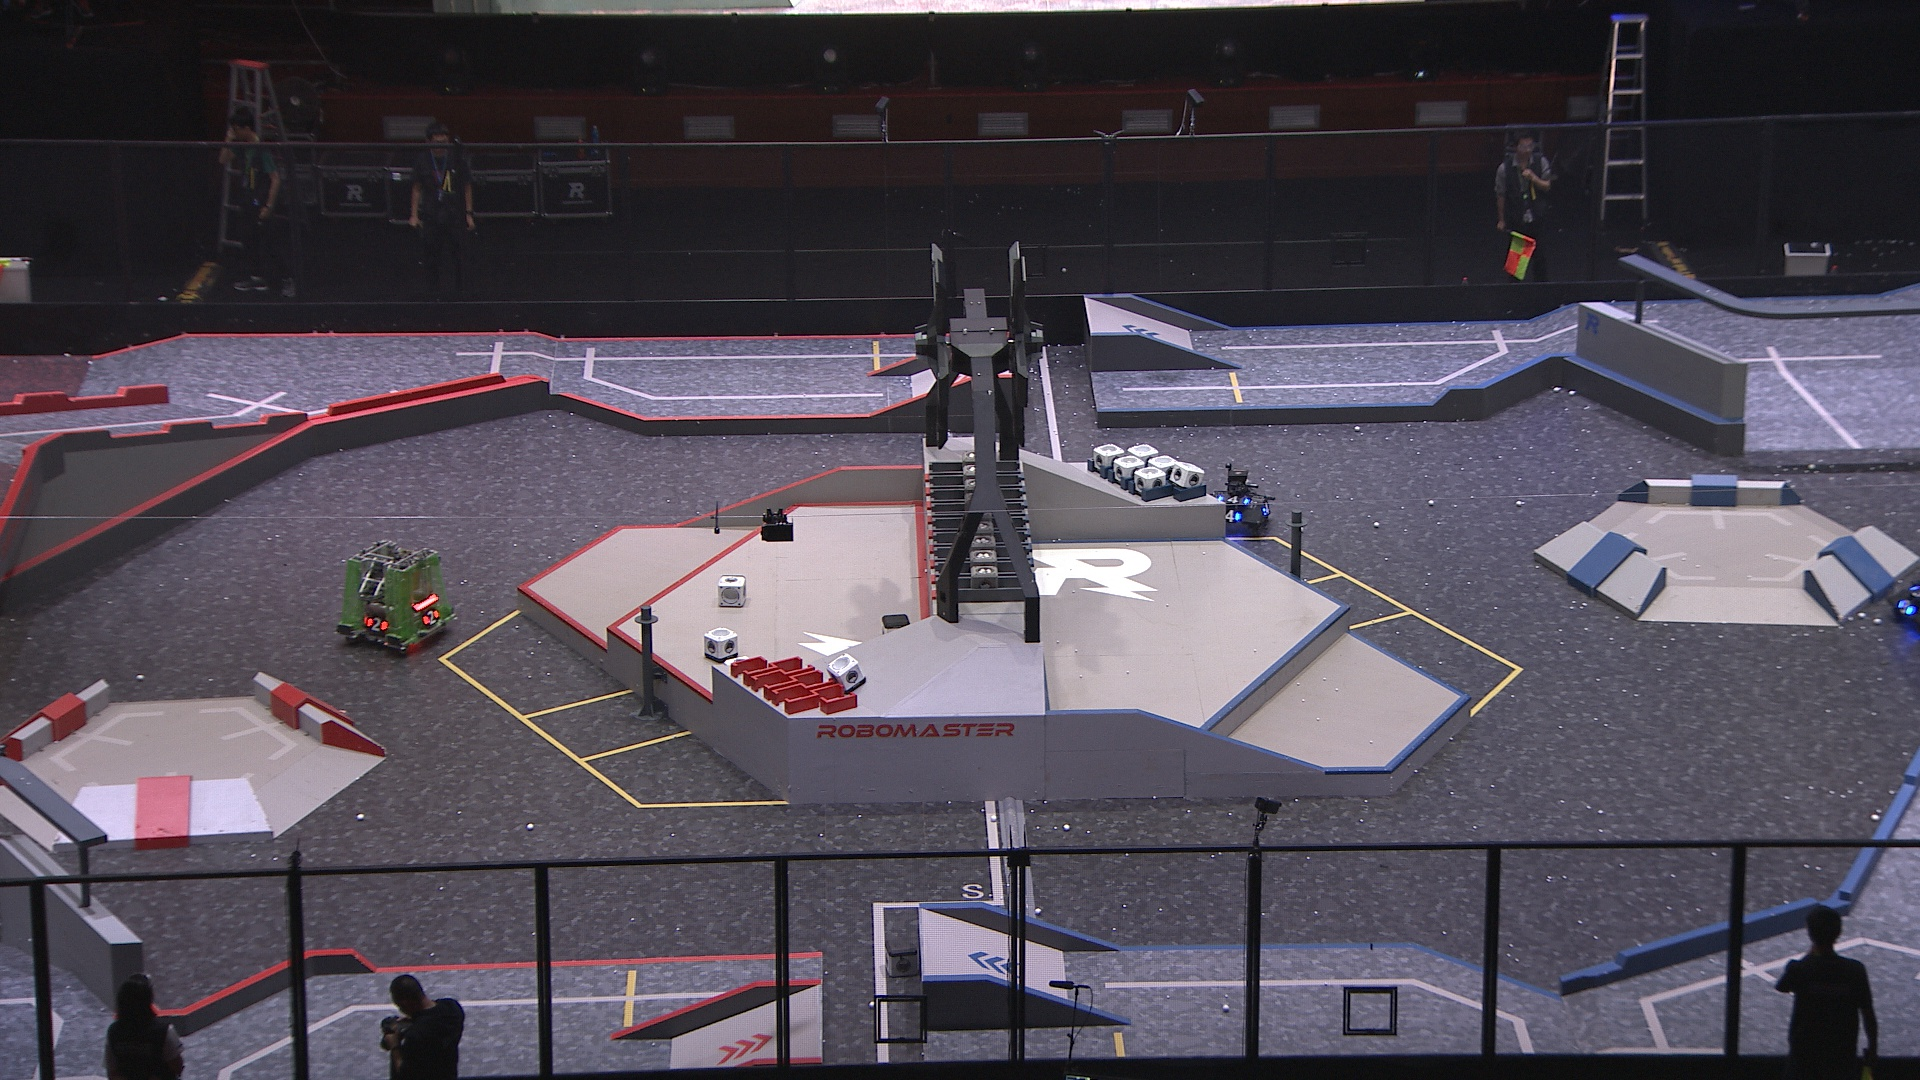armor: (365, 616, 390, 636), (1218, 495, 1250, 508), (422, 609, 440, 626), (1898, 599, 1916, 616), (1225, 509, 1244, 524), (1907, 585, 1920, 600)
car: (334, 538, 458, 657), (1205, 465, 1273, 534), (1888, 553, 1920, 637)
